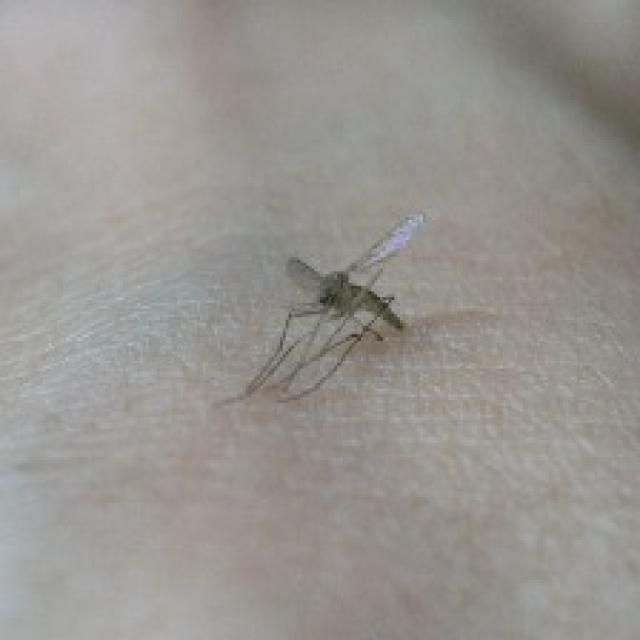culex: (223, 208, 426, 406)
